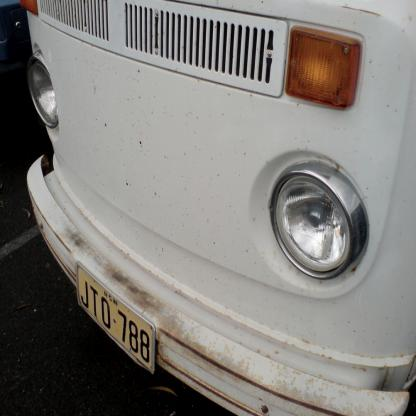license plate: (79, 270, 196, 302)
